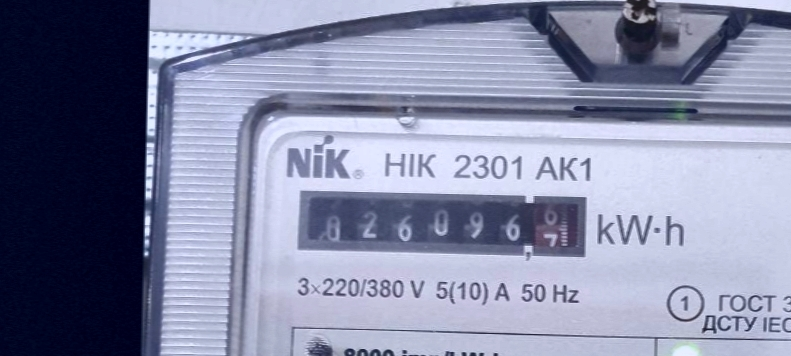0: (430, 203, 451, 239), (322, 209, 343, 241)
2: (358, 206, 380, 241)
6: (395, 208, 415, 244), (503, 208, 522, 241), (541, 199, 560, 226)
7: (541, 228, 559, 249)
9: (466, 207, 486, 240)
screen: (288, 179, 594, 267)
